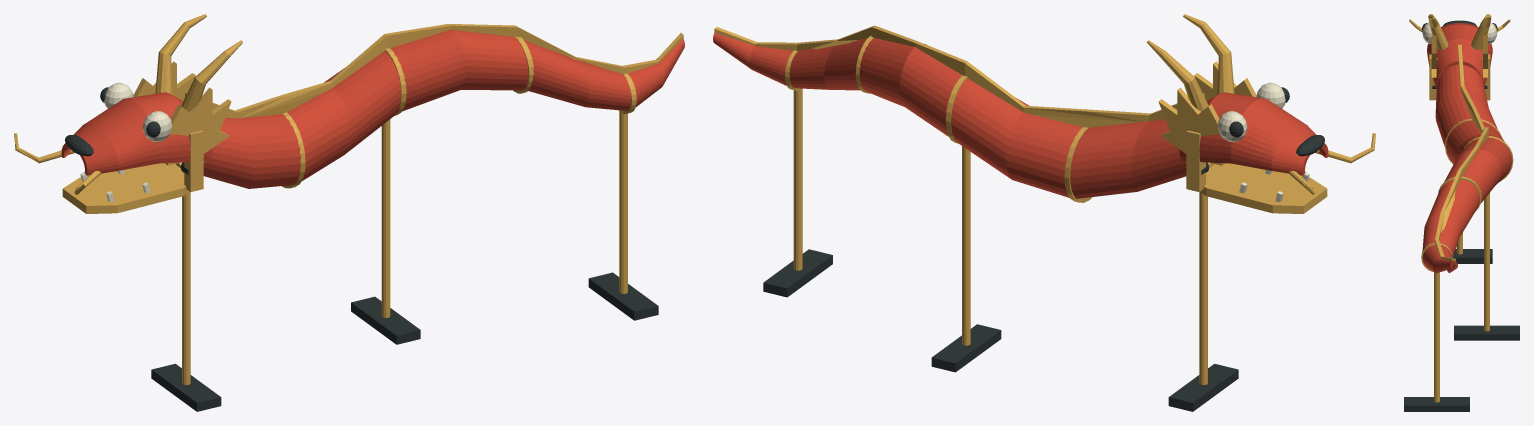
3 renders of one model, left to right at view 1: azimuth 30°, elevation 25°; view 2: azimuth 150°, elevation 25°; view 3: azimuth 270°, elevation 25°, orthographic. The views are drawn at different scales.
Parts seen in each view (by area): view 1: WholeUndulatingOpenUnderClothAndTail, WholeLongMuzzleAndHeadRoof, WholeContinuousSerratedDorsalCloth, WholeFixedLowerJaw, WholeCheekClothFrill_-1, WholeDisplayPole_4, WholeDisplayPole_0, WholeGroundFoot_8, WholeGroundFoot_0, WholeGroundFoot_4, WholeDisplayPole_8, WholeSweptHorn_1 (+3 smaller); view 2: WholeUndulatingOpenUnderClothAndTail, WholeLongMuzzleAndHeadRoof, WholeContinuousSerratedDorsalCloth, WholeFixedLowerJaw, WholeCheekClothFrill_1, WholeDisplayPole_8, WholeDisplayPole_4, WholeDisplayPole_0, WholeGroundFoot_4, WholeGroundFoot_0, WholeGroundFoot_8, WholeSweptHorn_-1 (+3 smaller); view 3: WholeUndulatingOpenUnderClothAndTail, WholeLongMuzzleAndHeadRoof, WholeContinuousSerratedDorsalCloth, WholeGroundFoot_4, WholeGroundFoot_8, WholeDisplayPole_4, WholeDisplayPole_8, WholeGroundFoot_0, WholeSweptHorn_-1, WholeSweptHorn_1, WholeCheekClothFrill_-1, WholeJawRearCheek_-1 (+8 smaller).
Part boxes in pixels (x1,y1,x2,y2): WholeUndulatingOpenUnderClothAndTail: (203, 29, 684, 188); WholeLongMuzzleAndHeadRoof: (61, 92, 212, 175); WholeContinuousSerratedDorsalCloth: (185, 24, 683, 118); WholeFixedLowerJaw: (62, 163, 189, 213); WholeCheekClothFrill_-1: (165, 87, 231, 165); WholeDisplayPole_4: (381, 119, 390, 317); WholeDisplayPole_0: (182, 192, 190, 385); WholeGroundFoot_8: (588, 272, 658, 320); WholeGroundFoot_0: (151, 363, 221, 411); WholeGroundFoot_4: (351, 296, 420, 344); WholeDisplayPole_8: (619, 110, 627, 293); WholeSweptHorn_1: (155, 14, 206, 94); WholeUndulatingOpenUnderClothAndTail: (713, 33, 1186, 198); WholeLongMuzzleAndHeadRoof: (1179, 92, 1328, 175); WholeContinuousSerratedDorsalCloth: (714, 25, 1204, 127); WholeFixedLowerJaw: (1200, 163, 1327, 213); WholeCheekClothFrill_1: (1158, 87, 1224, 165); WholeDisplayPole_8: (793, 88, 802, 270); WholeDisplayPole_4: (962, 146, 970, 345); WholeDisplayPole_0: (1199, 192, 1207, 384); WholeGroundFoot_4: (931, 324, 1001, 372); WholeGroundFoot_0: (1168, 363, 1238, 411); WholeGroundFoot_8: (763, 249, 832, 297); WholeSweptHorn_-1: (1183, 14, 1234, 94); WholeUndulatingOpenUnderClothAndTail: (1422, 64, 1512, 273); WholeLongMuzzleAndHeadRoof: (1427, 23, 1492, 87); WholeContinuousSerratedDorsalCloth: (1435, 44, 1488, 261); WholeGroundFoot_4: (1454, 325, 1519, 340); WholeGroundFoot_8: (1404, 397, 1469, 411); WholeDisplayPole_4: (1484, 193, 1489, 331); WholeDisplayPole_8: (1434, 272, 1439, 402); WholeGroundFoot_0: (1452, 249, 1492, 263); WholeSweptHorn_-1: (1428, 14, 1448, 50); WholeSweptHorn_1: (1471, 14, 1491, 49); WholeCheekClothFrill_-1: (1431, 32, 1436, 77); WholeJawRearCheek_-1: (1429, 54, 1437, 100).
Bounding box in the file's own units: 3.68 × 1.98 × 0.81.
